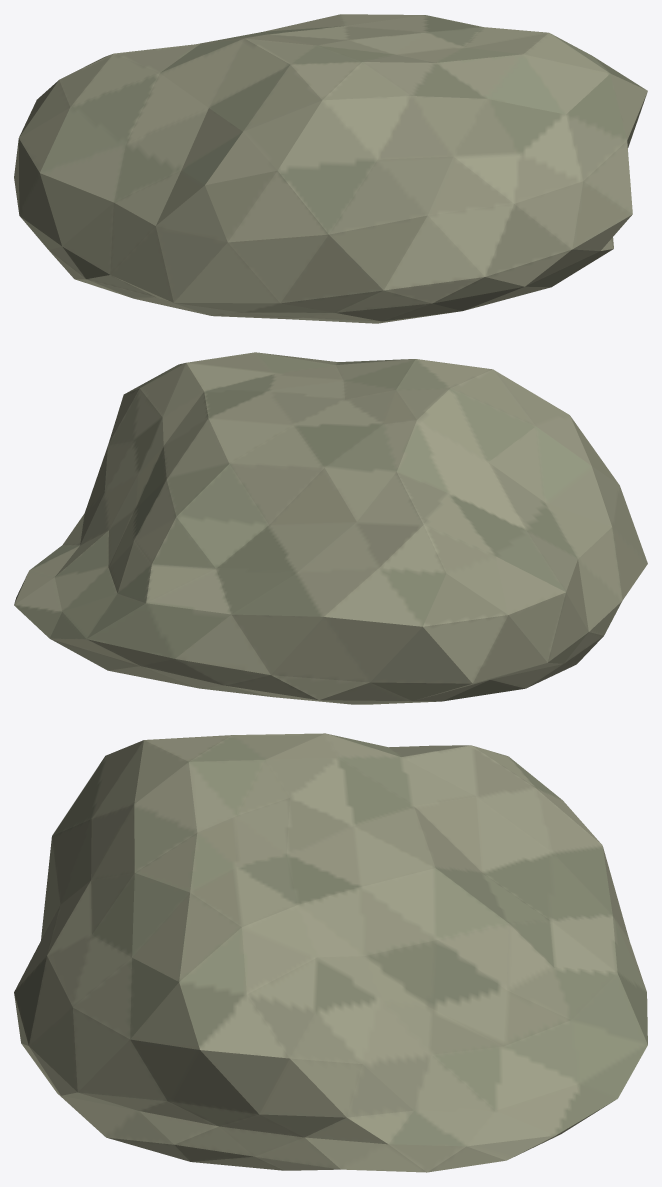
The model's file is SM_Rock_Medium.fbx.
3 views of the same model, one above another, from view 1: azimuth 30°, elevation 25°; view 2: azimuth 150°, elevation 25°; view 3: azimuth 270°, elevation 25° (orthographic). The views are drawn at different scales.
Visible parts, largest first — view 1: SM_Rock_Medium_LOD0; view 2: SM_Rock_Medium_LOD0; view 3: SM_Rock_Medium_LOD0.
Boxes of the visible parts, left/top/right/bottom form: SM_Rock_Medium_LOD0: left=14, top=14, right=647, bottom=323; SM_Rock_Medium_LOD0: left=14, top=352, right=647, bottom=704; SM_Rock_Medium_LOD0: left=14, top=733, right=647, bottom=1172.
Size of what is drawn, in the model's own units: 1.23 by 0.5665 by 1.08.
